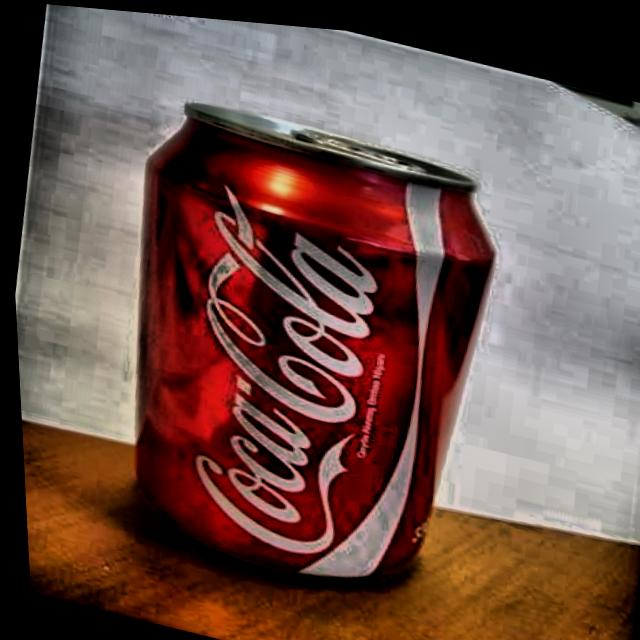Cans: (69, 65, 520, 613)
